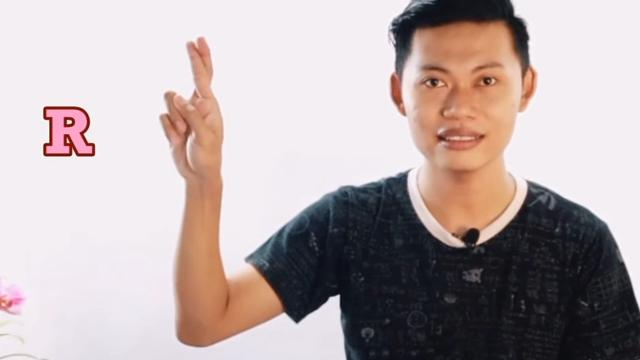R: (157, 29, 231, 178)
